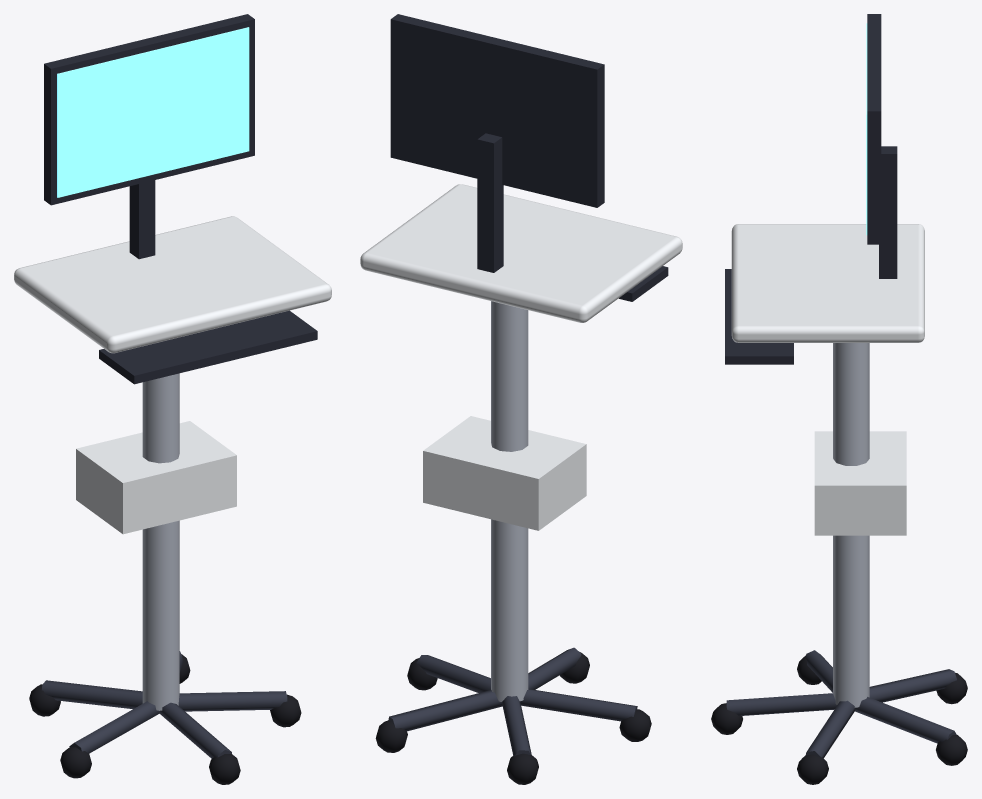
Rendered from trk-016.glb.
3 views of the same model, side by side, from view 1: azimuth 30°, elevation 25°; view 2: azimuth 150°, elevation 25°; view 3: azimuth 270°, elevation 25° (orthographic). The views are drawn at different scales.
Parts seen in each view (by area): view 1: white, pump_screen, plastic_dark, steel, dark_steel, rubber; view 2: white, plastic_dark, steel, dark_steel, rubber; view 3: white, steel, plastic_dark, dark_steel, rubber.
Boxes of the visible parts, box(x1,y1,x2,y2) form: white: box(14, 216, 331, 534); pump_screen: box(57, 27, 249, 197); plastic_dark: box(44, 14, 317, 384); steel: box(142, 373, 179, 710); dark_steel: box(42, 651, 287, 758); rubber: box(29, 654, 301, 784); white: box(360, 184, 682, 530); plastic_dark: box(390, 14, 668, 301); steel: box(491, 301, 528, 701); dark_steel: box(388, 647, 637, 756); rubber: box(375, 652, 651, 784); white: box(731, 224, 924, 535); steel: box(833, 343, 869, 707); plastic_dark: box(725, 14, 897, 364); dark_steel: box(726, 650, 956, 758); rubber: box(711, 655, 967, 784).
Size of the model in its own units: 0.5836 by 1.61 by 0.5584.
